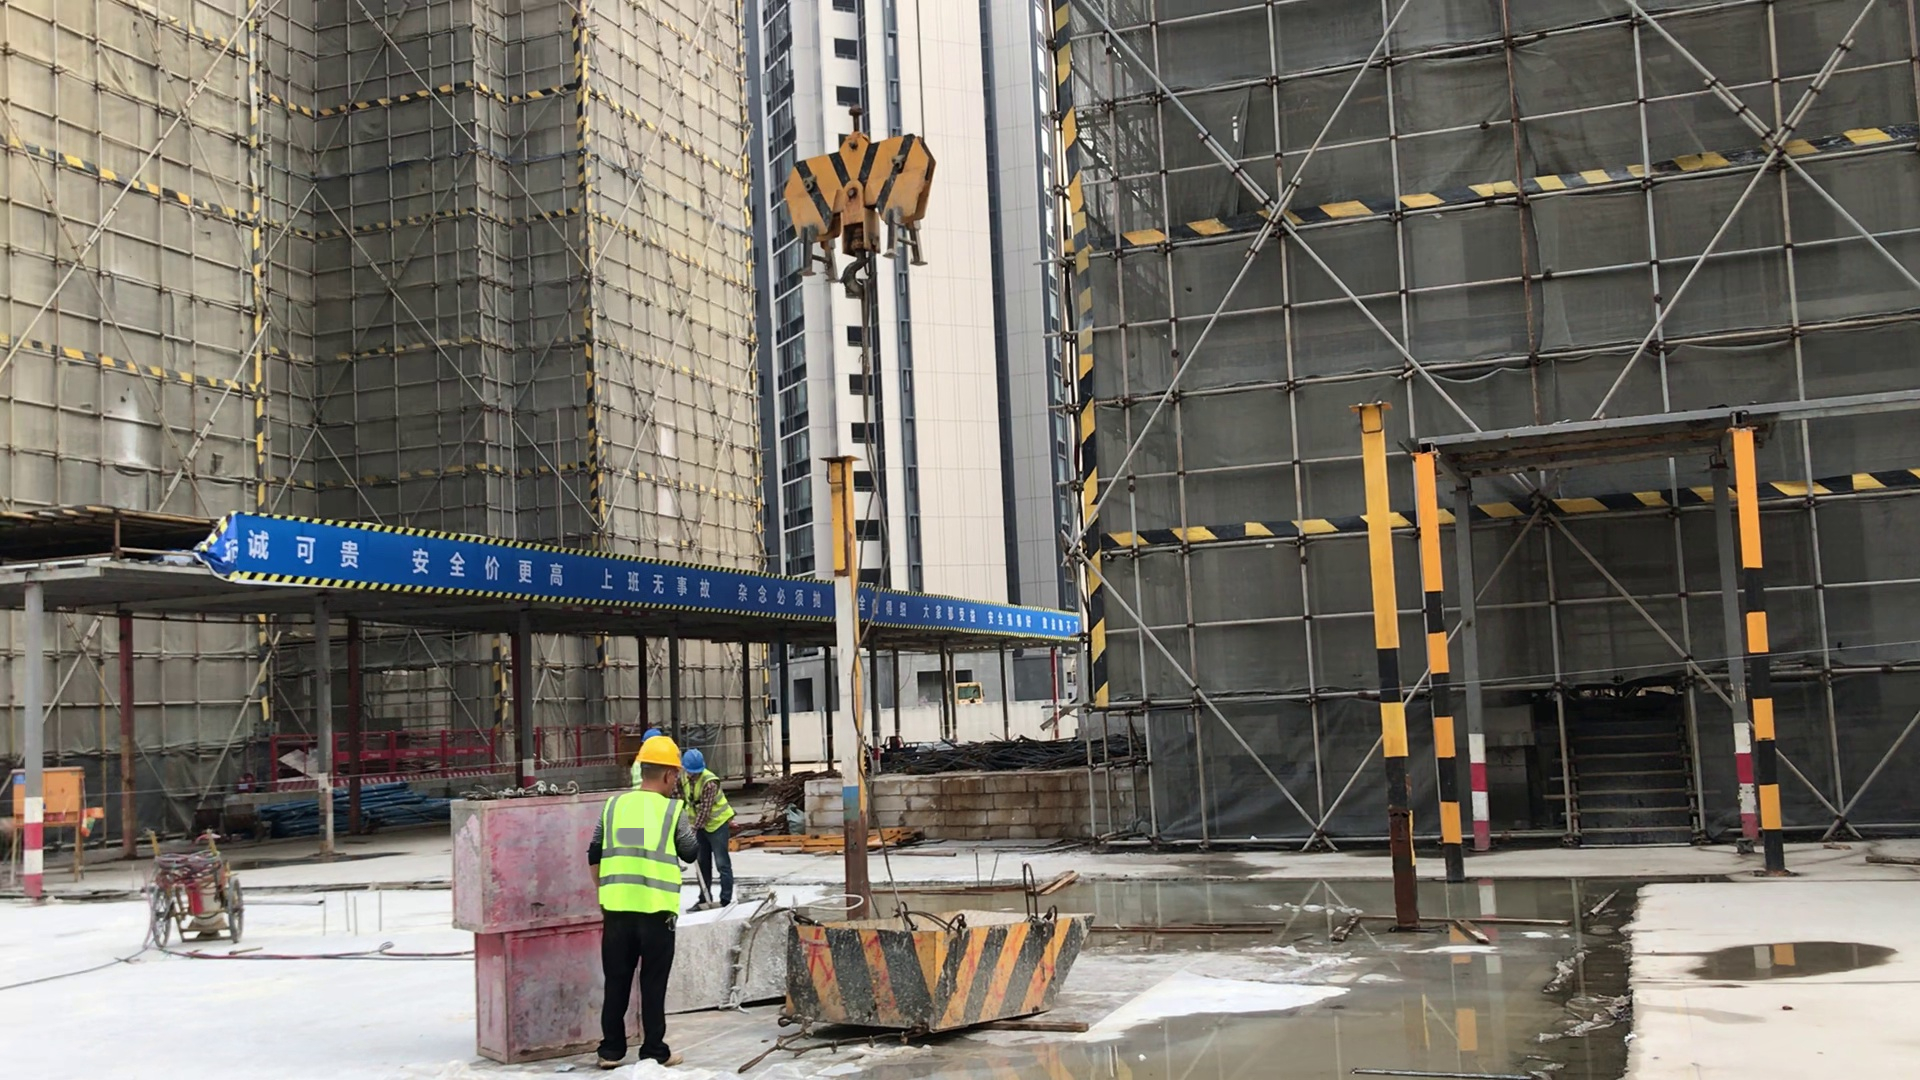ebox: (13, 764, 82, 824)
fence: (271, 722, 633, 795)
handcart: (144, 818, 246, 949)
helmet: (639, 734, 683, 766), (681, 749, 705, 772)
hook: (786, 106, 936, 296)
hopper: (790, 907, 1097, 1022), (658, 895, 823, 1014)
person: (590, 736, 700, 1069), (681, 749, 734, 910)
slogan: (219, 510, 1079, 642)
vest: (599, 790, 682, 915), (683, 772, 733, 830)
